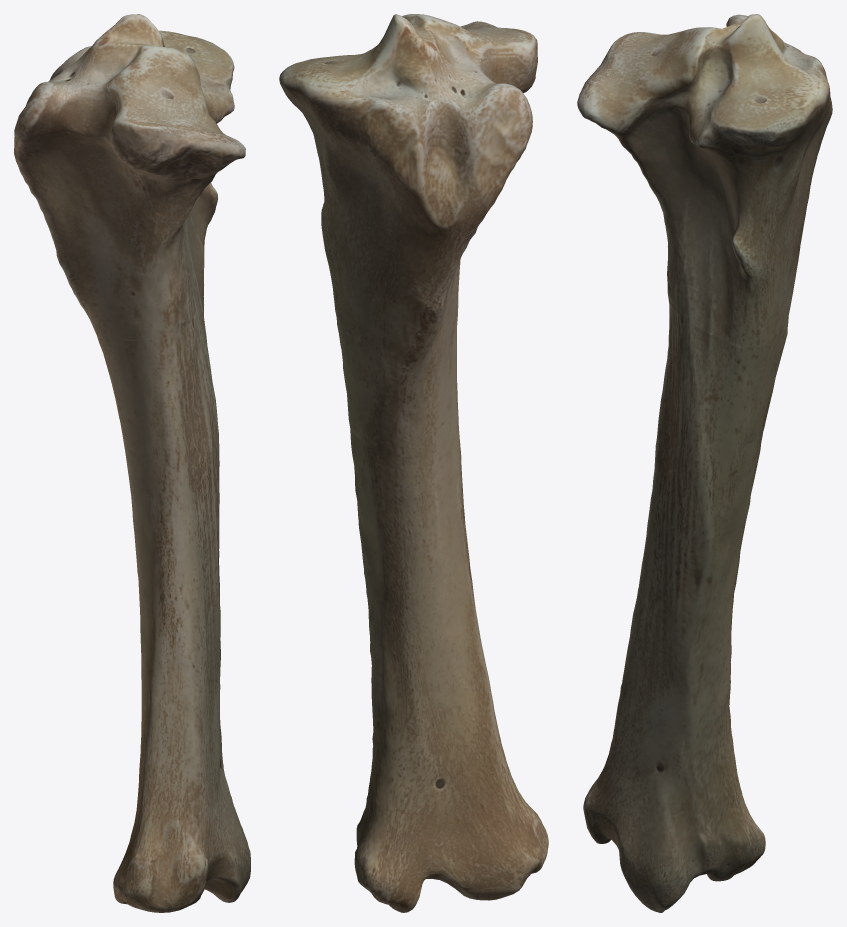
Rendered from tibia-esquerda-equina.glb.
3 renders of one model, left to right at view 1: azimuth 30°, elevation 25°; view 2: azimuth 150°, elevation 25°; view 3: azimuth 270°, elevation 25°, orthographic. The views are drawn at different scales.
Parts seen in each view (by area): view 1: 3DModel_LowPoly; view 2: 3DModel_LowPoly; view 3: 3DModel_LowPoly.
Boxes of the visible parts, x1,y1,x2,y2 form: 3DModel_LowPoly: (14, 14, 250, 912); 3DModel_LowPoly: (279, 14, 548, 912); 3DModel_LowPoly: (577, 14, 832, 912).
Size of the model in its own units: 0.6394 by 2.43 by 0.6451.
Materials: 1 (1 with a texture image).
